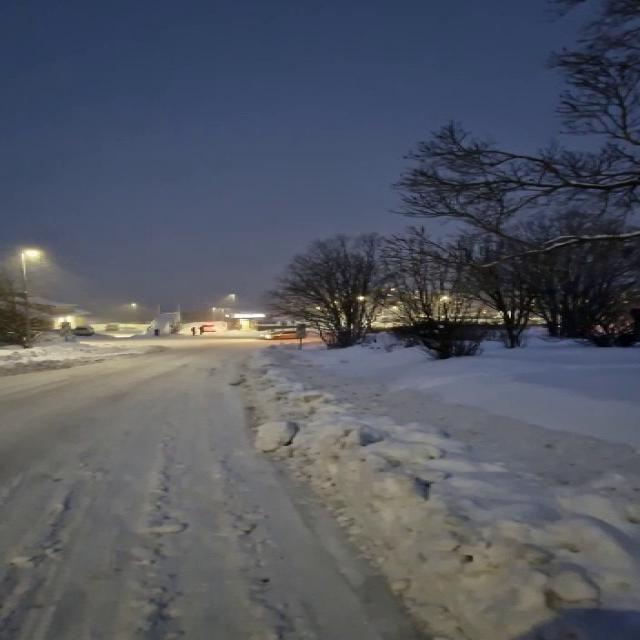path: (2, 340, 422, 640)
